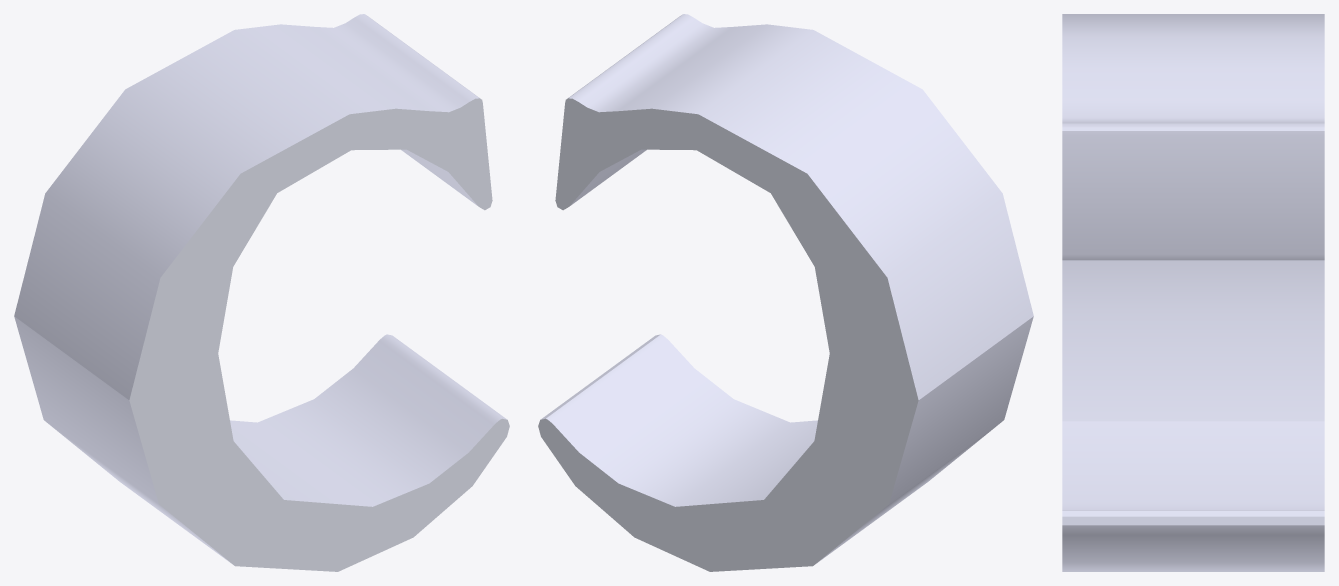
Rendered from C_Soul_Grey.glb.
3 renders of one model, left to right at view 1: azimuth 30°, elevation 25°; view 2: azimuth 150°, elevation 25°; view 3: azimuth 270°, elevation 25°, orthographic. The views are drawn at different scales.
Parts seen in each view (by area): view 1: c_Soul_Grey; view 2: c_Soul_Grey; view 3: c_Soul_Grey.
Part boxes in pixels (bbox=[...]): c_Soul_Grey: bbox=[14, 14, 509, 571]; c_Soul_Grey: bbox=[538, 14, 1033, 571]; c_Soul_Grey: bbox=[1062, 14, 1324, 571].
Size of what is drawn, in the model's own units: 0.0858 by 0.098 by 0.045.
2 materials, 2 textured.
